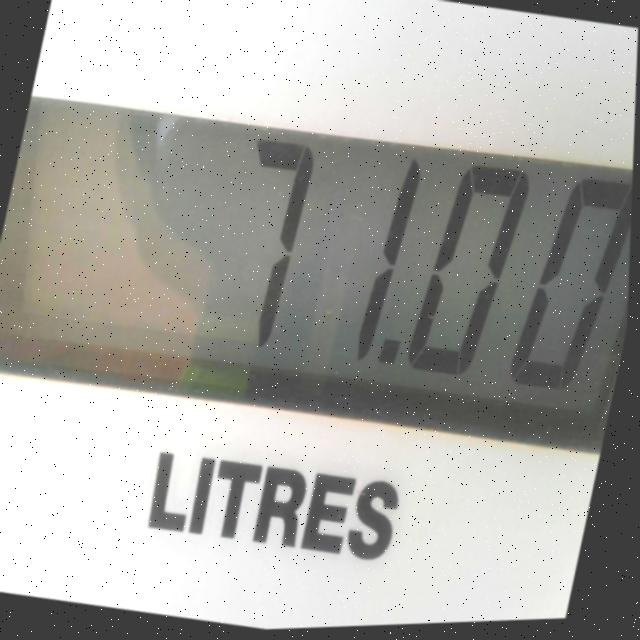.: (368, 321, 412, 402)
0: (496, 169, 635, 432), (397, 155, 541, 407)
1: (317, 147, 433, 387)
7: (204, 130, 334, 370)
